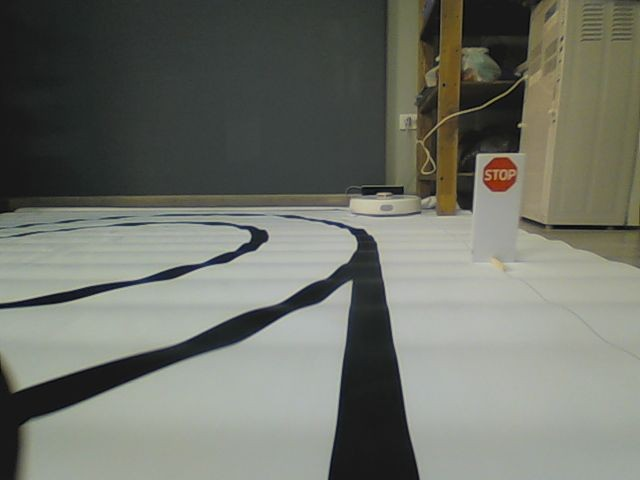Stop: (482, 157, 520, 194)
